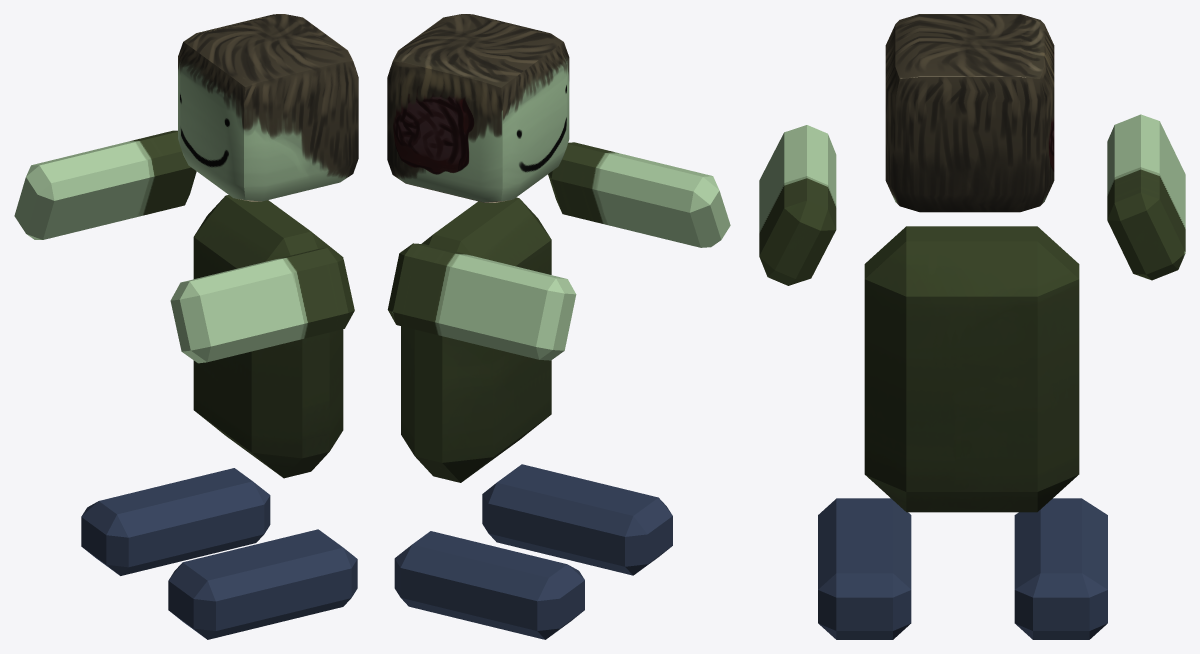
Rendered from ZOMBIE-C.fbx.
3 views of the same model, side by side, from view 1: azimuth 30°, elevation 25°; view 2: azimuth 150°, elevation 25°; view 3: azimuth 270°, elevation 25° (orthographic). The views are drawn at different scales.
Parts seen in each view (by area): view 1: Head, Body, Left_Hand, Left_Foot, Right_Foot, Right_Hand; view 2: Head, Body, Right_Hand, Left_Foot, Right_Foot, Left_Hand; view 3: Body, Head, Left_Foot, Right_Foot, Right_Hand, Left_Hand.
Part boxes in pixels (x1,y1,x2,y2): Head: (178, 14, 358, 201); Body: (193, 195, 343, 478); Left_Hand: (170, 248, 354, 363); Left_Foot: (168, 529, 357, 639); Right_Foot: (81, 468, 270, 575); Right_Hand: (14, 130, 196, 239); Head: (387, 14, 569, 202); Body: (401, 197, 551, 482); Right_Hand: (387, 243, 576, 360); Left_Foot: (482, 464, 672, 575); Right_Foot: (394, 531, 584, 639); Left_Hand: (548, 142, 730, 247); Body: (864, 226, 1079, 512); Head: (885, 14, 1054, 212); Left_Foot: (818, 498, 911, 639); Right_Foot: (1014, 498, 1107, 639); Right_Hand: (1107, 114, 1185, 280); Left_Hand: (759, 125, 836, 285).
Size of the model in its own units: 1.76 by 3.88 by 2.53.
